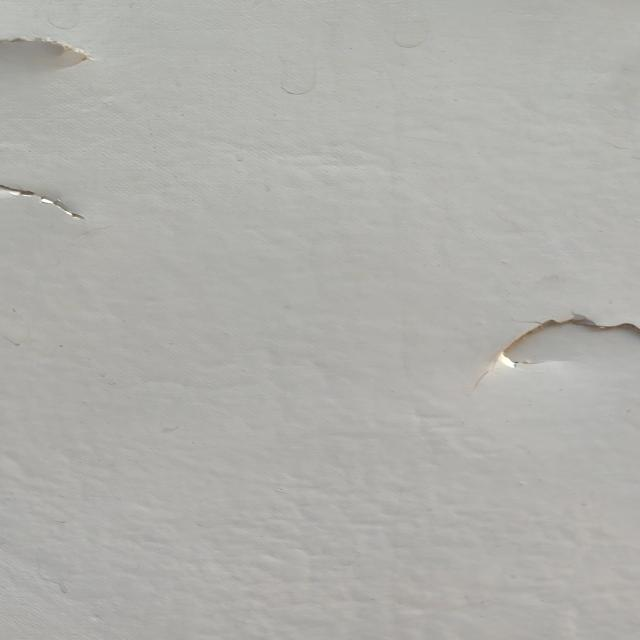Scratches: (459, 280, 640, 394), (1, 26, 135, 79), (1, 178, 120, 233)
